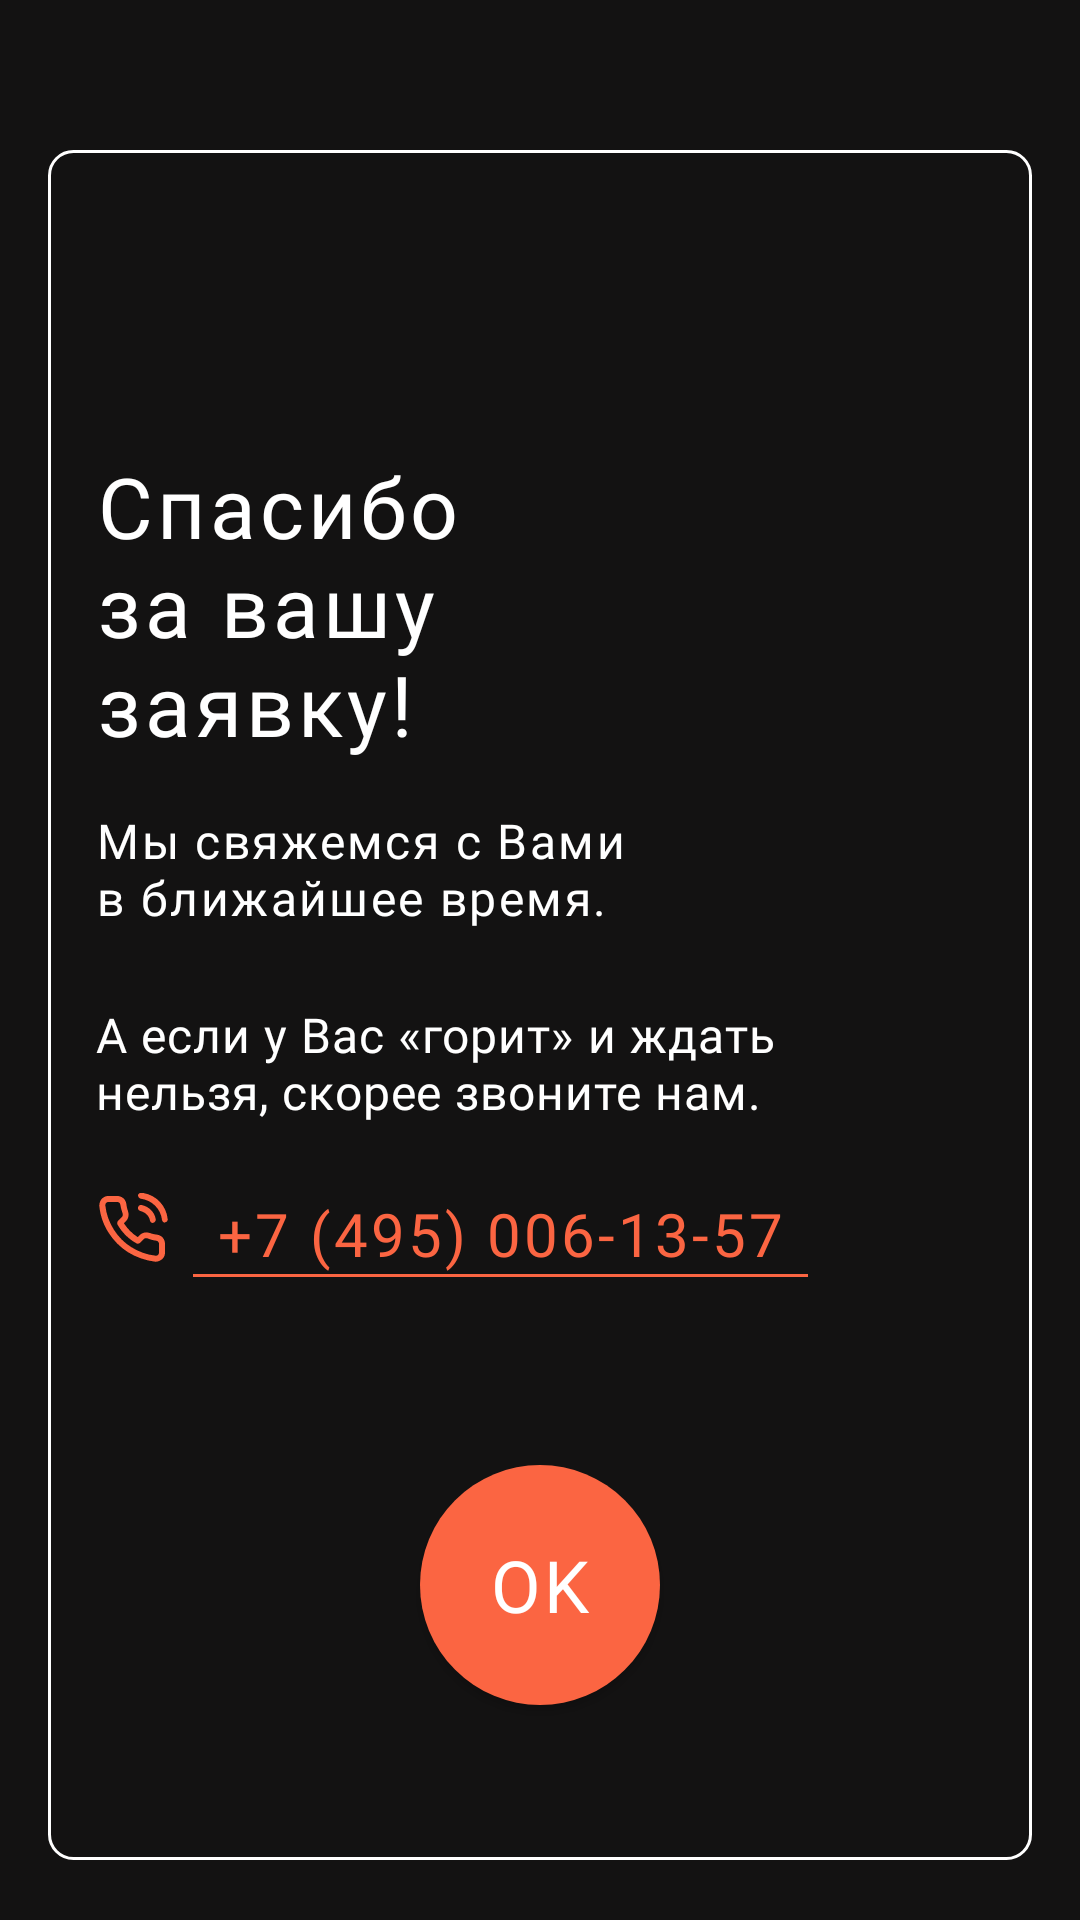

Icons on this 1080w x 1920h Android screen, each with its box as (x1, y1, x2, y2):
phone call: (99, 1193, 168, 1262)
